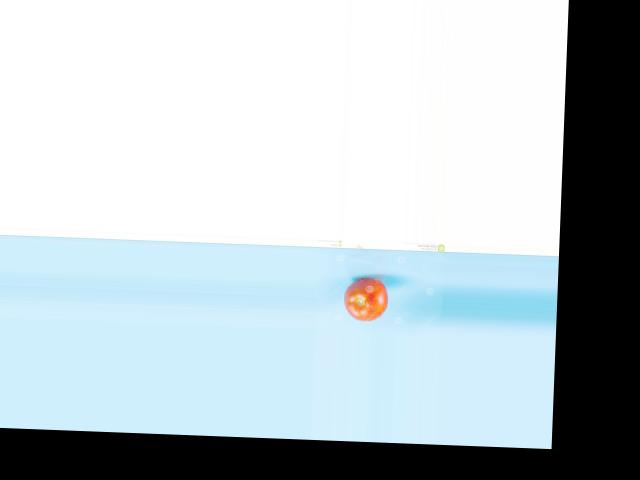tomato: (342, 277, 388, 321)
